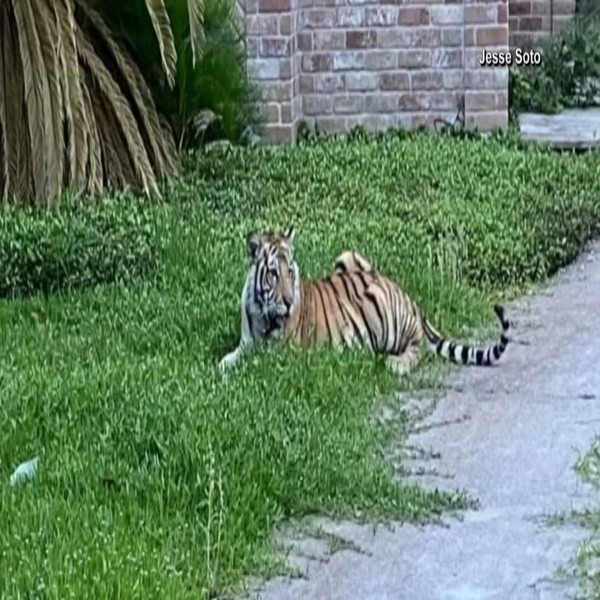Tiger: (221, 227, 515, 383)
